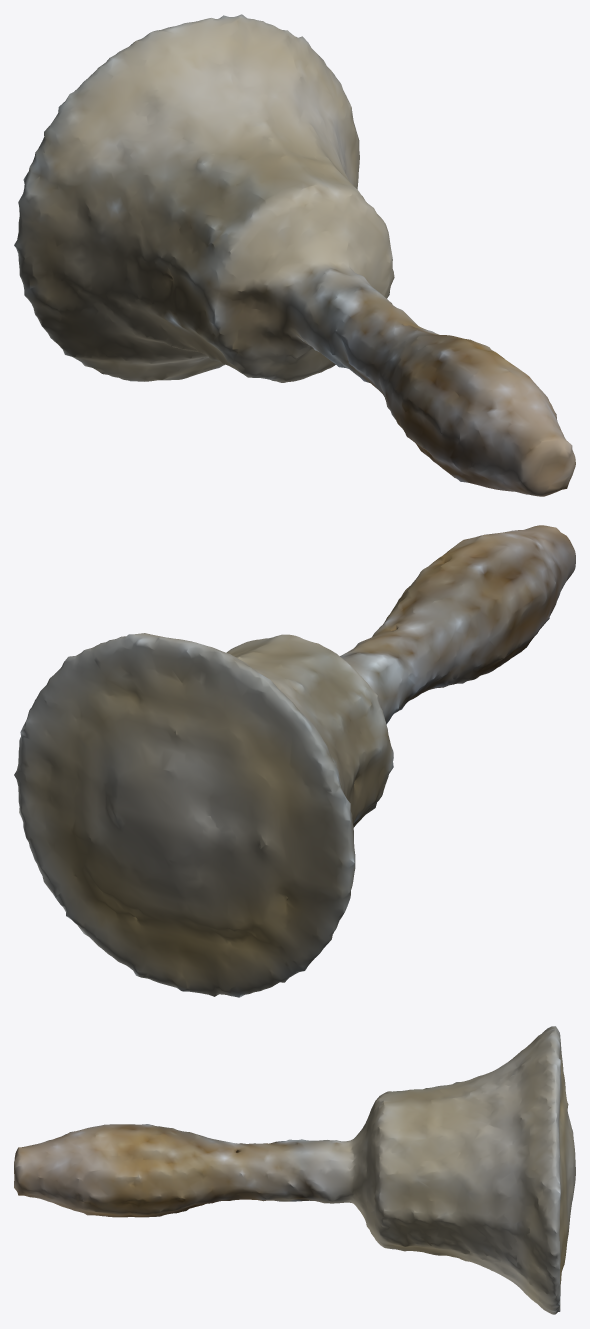
Rendered from bell.glb.
3 renders of one model, top to bottom at view 1: azimuth 30°, elevation 25°; view 2: azimuth 150°, elevation 25°; view 3: azimuth 270°, elevation 25°, orthographic. The views are drawn at different scales.
Bounding box in the file's own units: 0.5184 × 0.5063 × 0.9973.
